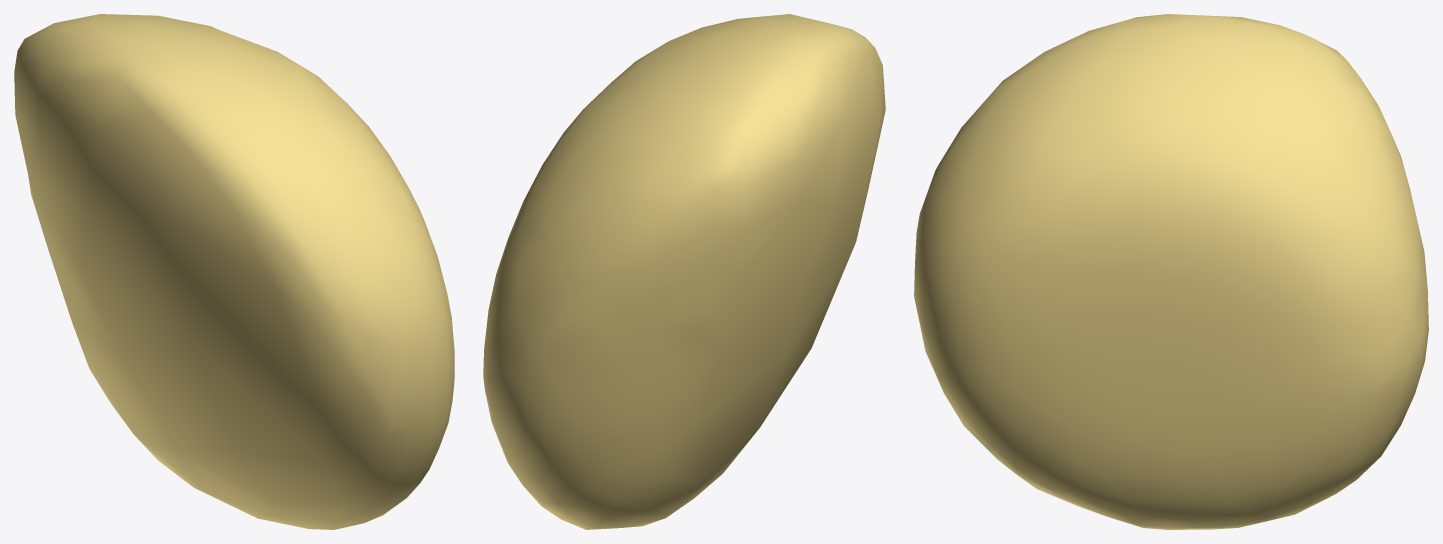
The model's file is fma73351_mm2958m.glb.
3 views of the same model, side by side, from view 1: azimuth 30°, elevation 25°; view 2: azimuth 150°, elevation 25°; view 3: azimuth 270°, elevation 25° (orthographic). The views are drawn at different scales.
Parts seen in each view (by area): view 1: FMA73351_MM2958M; view 2: FMA73351_MM2958M; view 3: FMA73351_MM2958M.
Part boxes in pixels (x1,y1,x2,y2): FMA73351_MM2958M: [14, 14, 454, 529]; FMA73351_MM2958M: [483, 14, 885, 529]; FMA73351_MM2958M: [914, 14, 1428, 529].
Bounding box in the file's own units: 0.00147 × 0.00249 × 0.00261.
